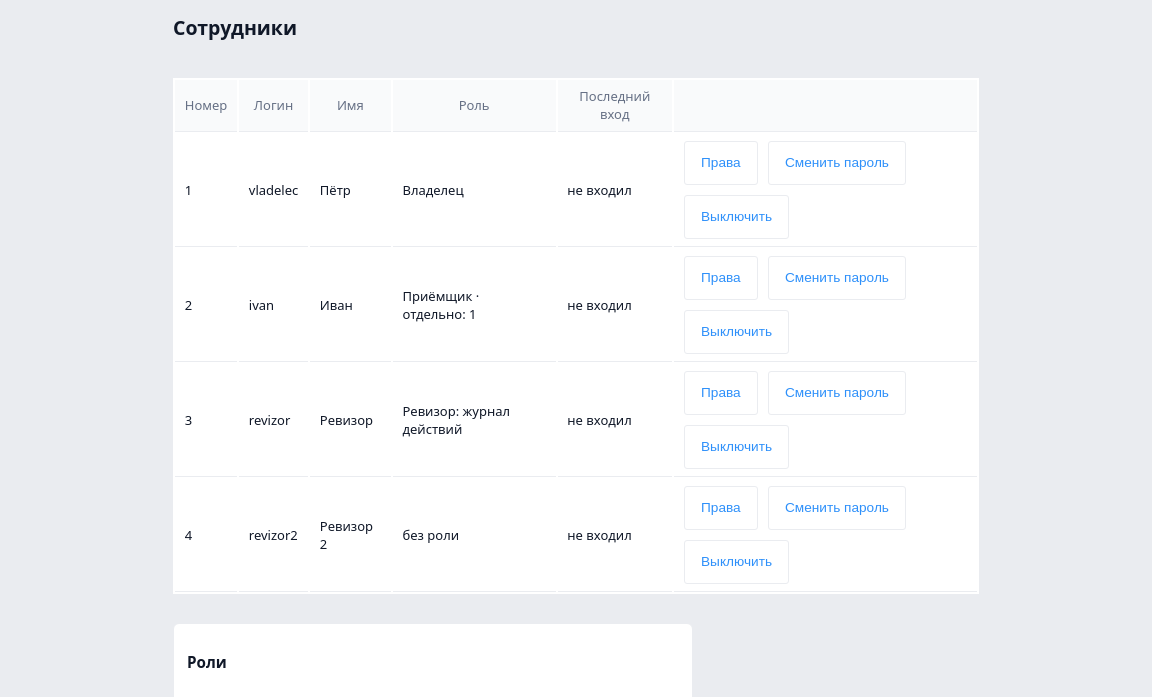
Scenario: роли и права на экране сотрудников › ревизор без роли с журналом назван словами, без журнала — «без роли»
This screenshot has width=1152, height=697.
Expected: the text "Ревизор: журнал действий" is shown, [393, 364, 556, 477]
Expected: the text "без роли" is shown, [393, 479, 556, 592]
Click the button with aria-label "Права: revizor": (721, 393) [684, 371, 758, 415]
(page scrolled)
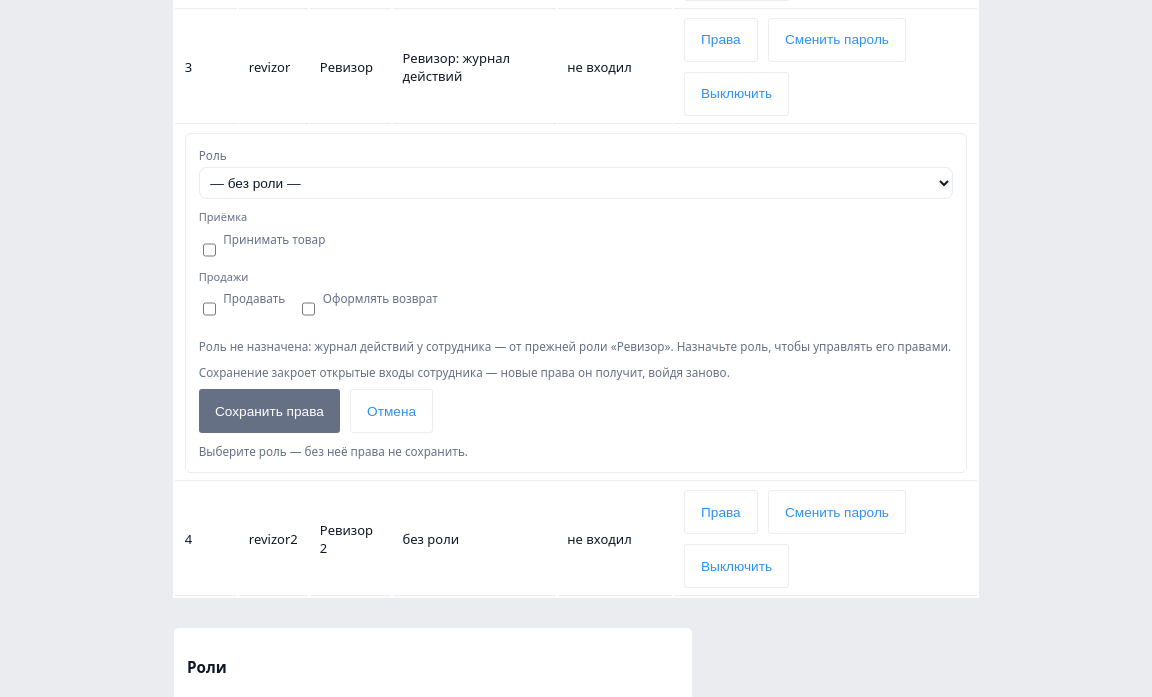
Result: the text "журнал действий у сотрудника — от прежней роли «Ревизор»" is shown at [199, 338, 674, 354]
